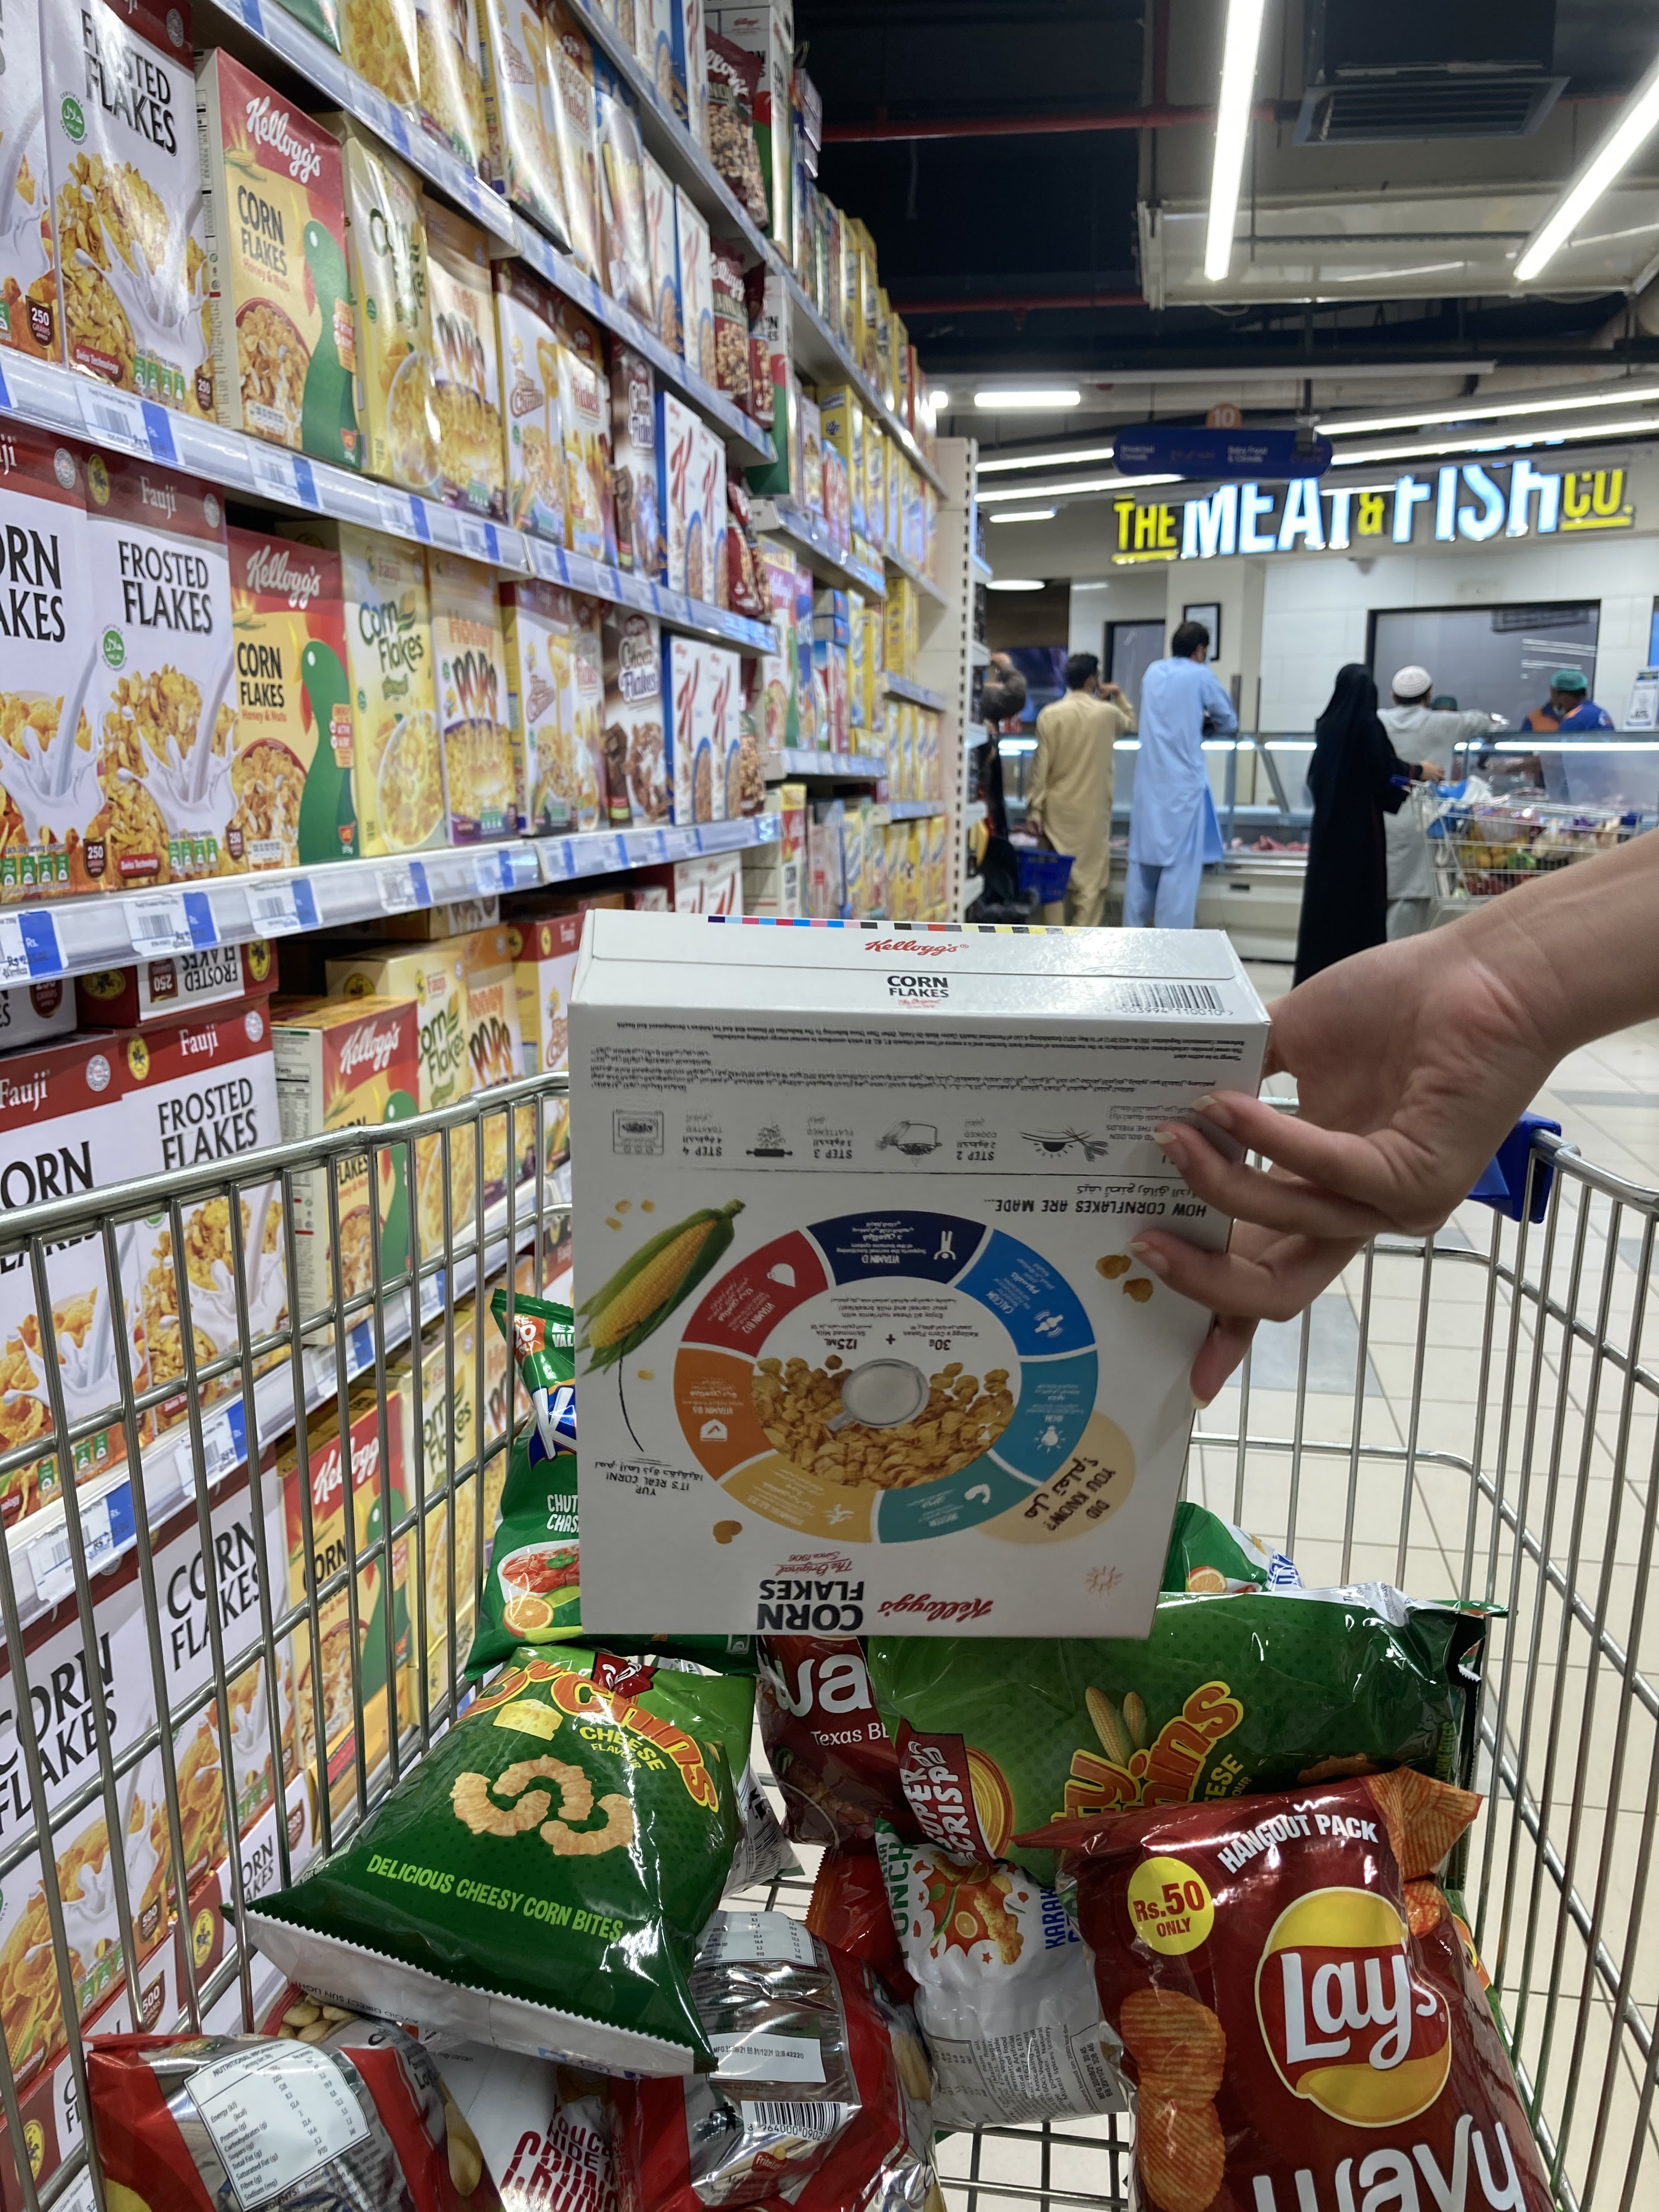Kellogg's Corn Flakes: (559, 907, 1274, 1662)
